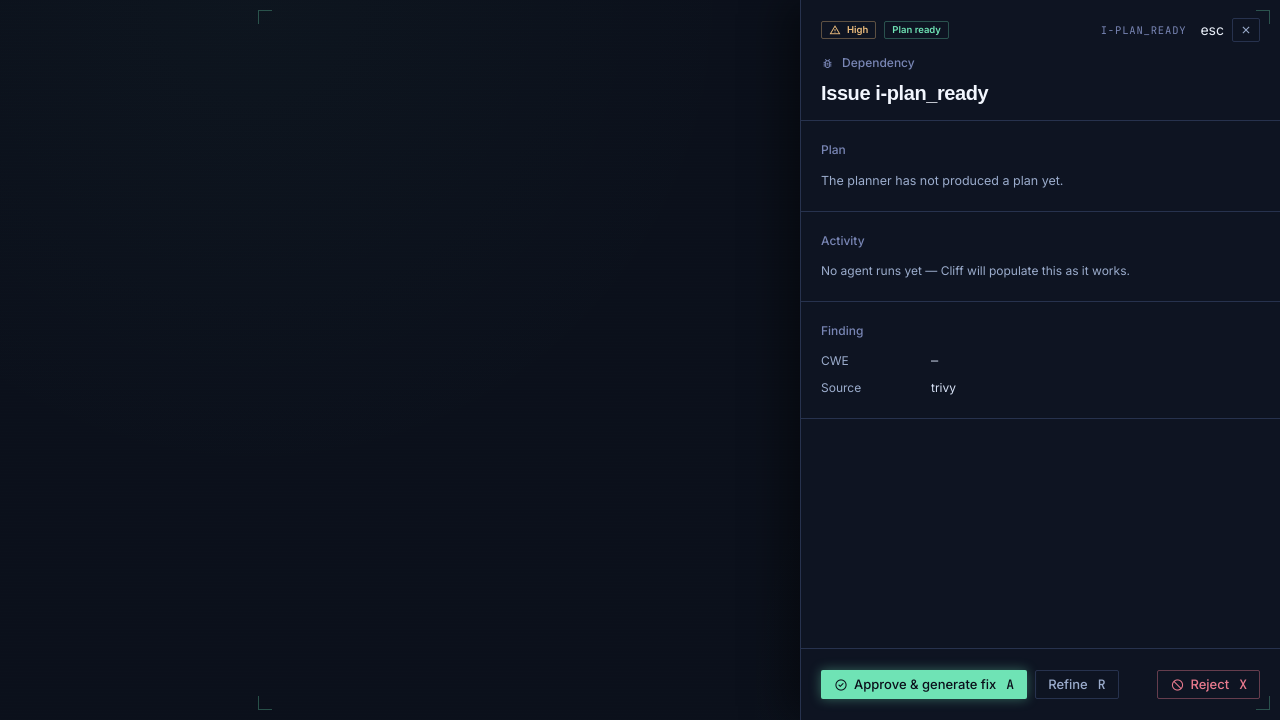
IssueSidePanel — Refine inline state (F5) › clicking Refine reveals an autofocused textarea inside the Plan section
Click the button "Refine R".
click(1077, 684)  # box [1035,670,1119,699]
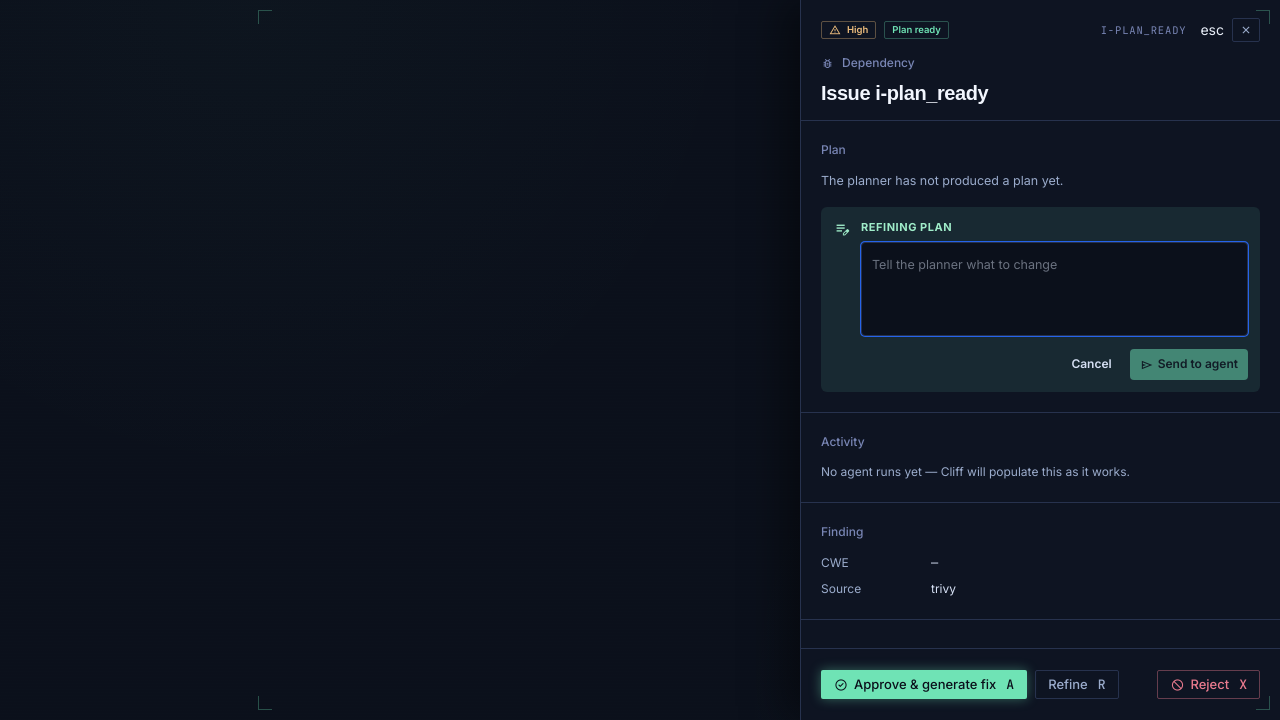
Check: the text box with placeholder "Tell the planner what to change" is shown, box [861,242,1248,336]
